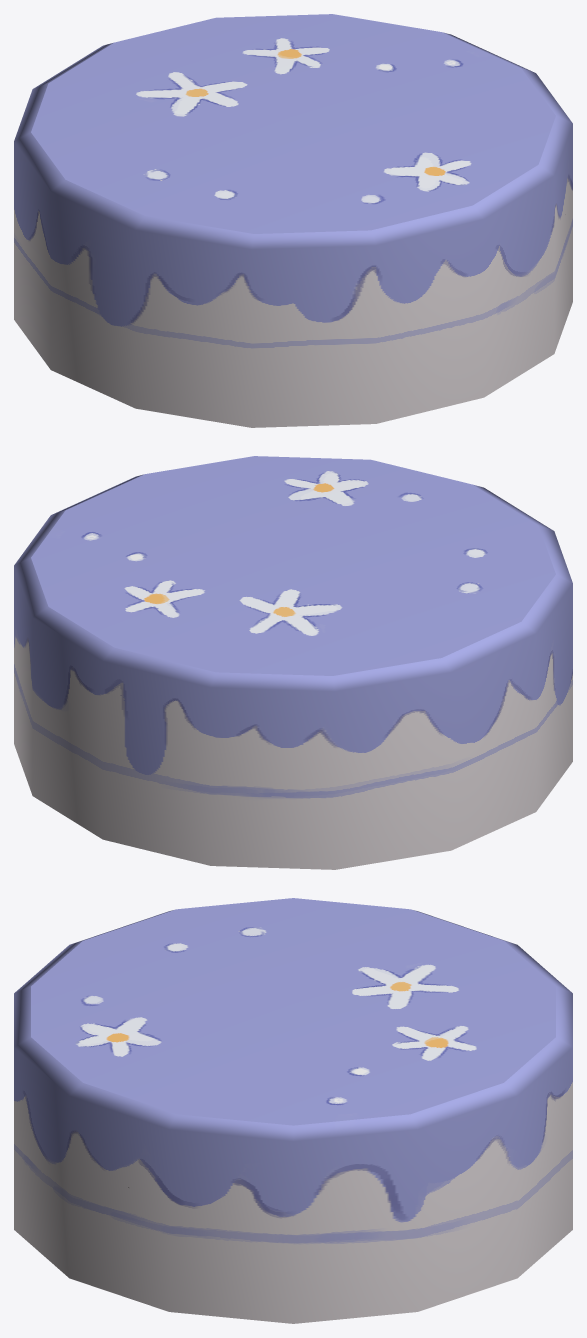
File: cake.fbx
The picture shows the model from 3 angles, top to bottom: view 1: azimuth 30°, elevation 25°; view 2: azimuth 150°, elevation 25°; view 3: azimuth 270°, elevation 25°; orthographic projection. The views are drawn at different scales.
Visible parts, largest first — view 1: Cake; view 2: Cake; view 3: Cake.
Boxes of the visible parts, left/top/right/bottom form: Cake: left=14, top=14, right=572, bottom=427; Cake: left=14, top=456, right=572, bottom=869; Cake: left=14, top=898, right=572, bottom=1323.
Size of the model in its own units: 52.52 by 19.91 by 51.2.
Materials: 1 (1 with a texture image).
